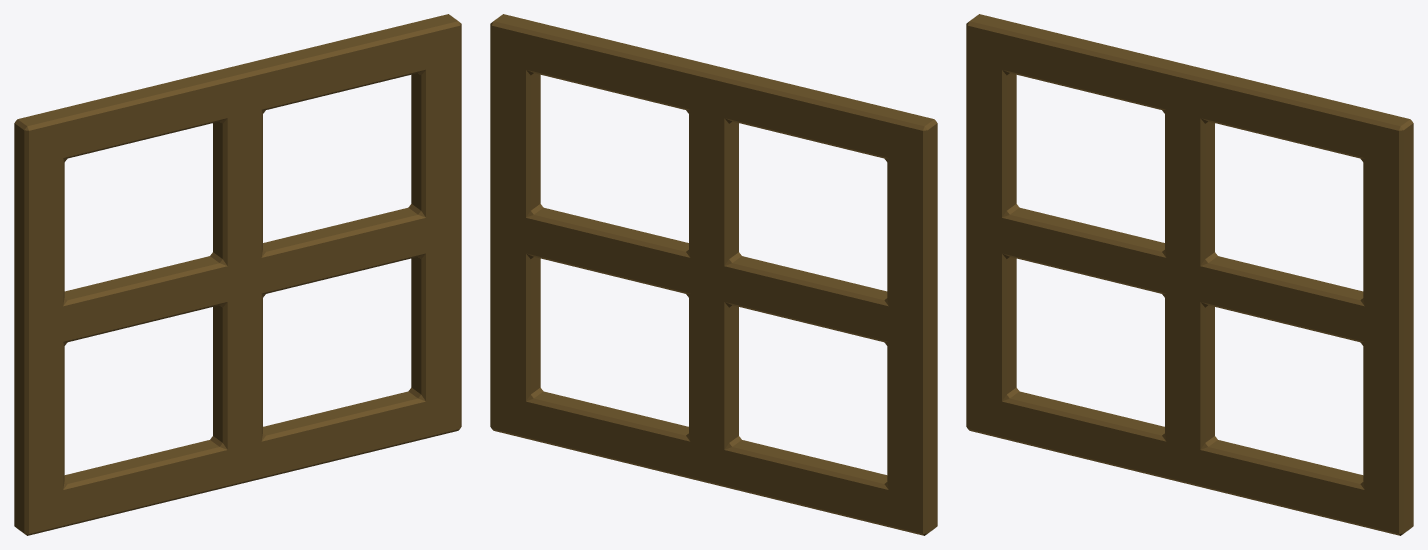
File: windowFrame.fbx
The picture shows the model from 3 angles, left to right: view 1: azimuth 30°, elevation 25°; view 2: azimuth 150°, elevation 25°; view 3: azimuth 330°, elevation 25°; orthographic projection.
Parts seen in each view (by area): view 1: Windowframe; view 2: Windowframe; view 3: Windowframe.
Boxes of the visible parts, x1,y1,x2,y2 form: Windowframe: (14,14,461,535); Windowframe: (490,14,937,535); Windowframe: (966,14,1413,535).
Bounding box in the file's own units: 131 × 117 × 6.89.
